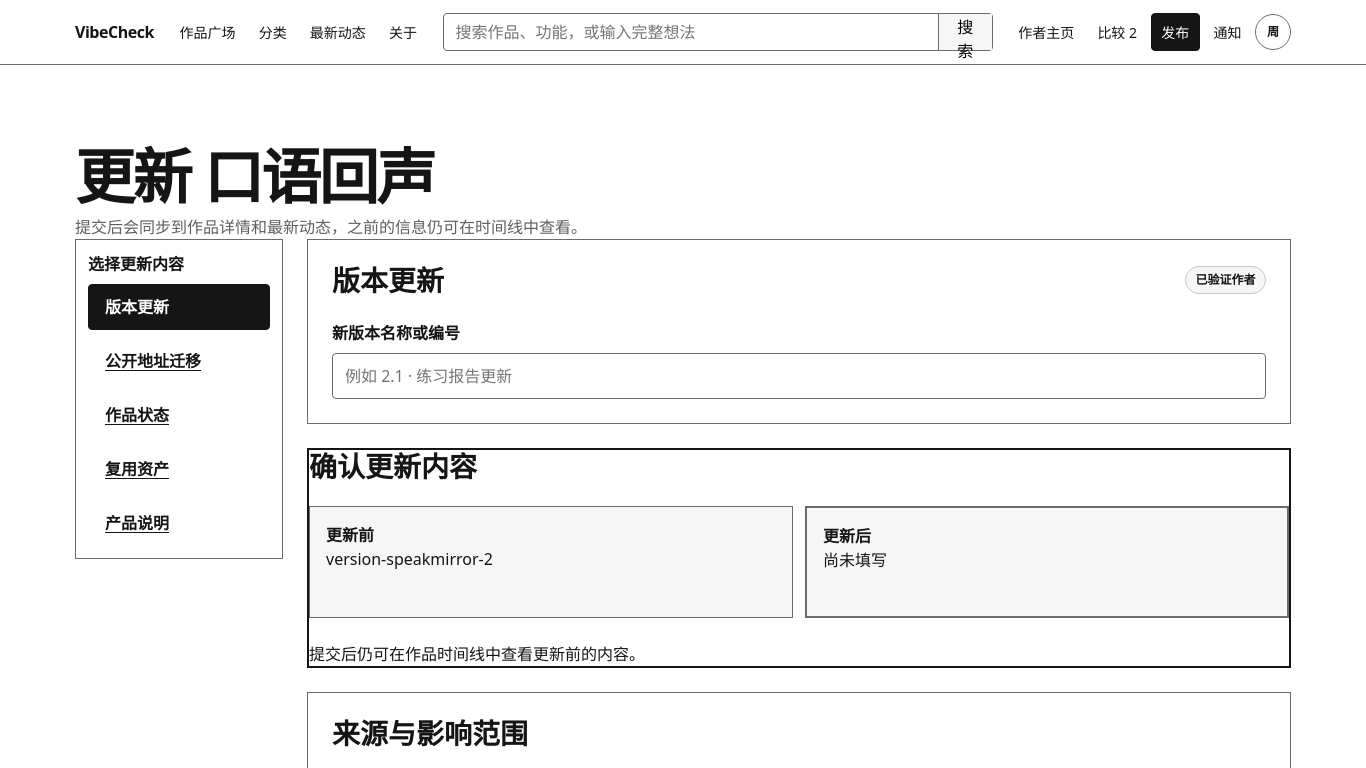
Test: verified author project updates › preserves the draft and redirects when permission expires during submission
Type "3.0" into the field labelled "新版本名称或编号".
click(799, 376); type("3.0")  # box [332,353,1266,399]
(page scrolled)
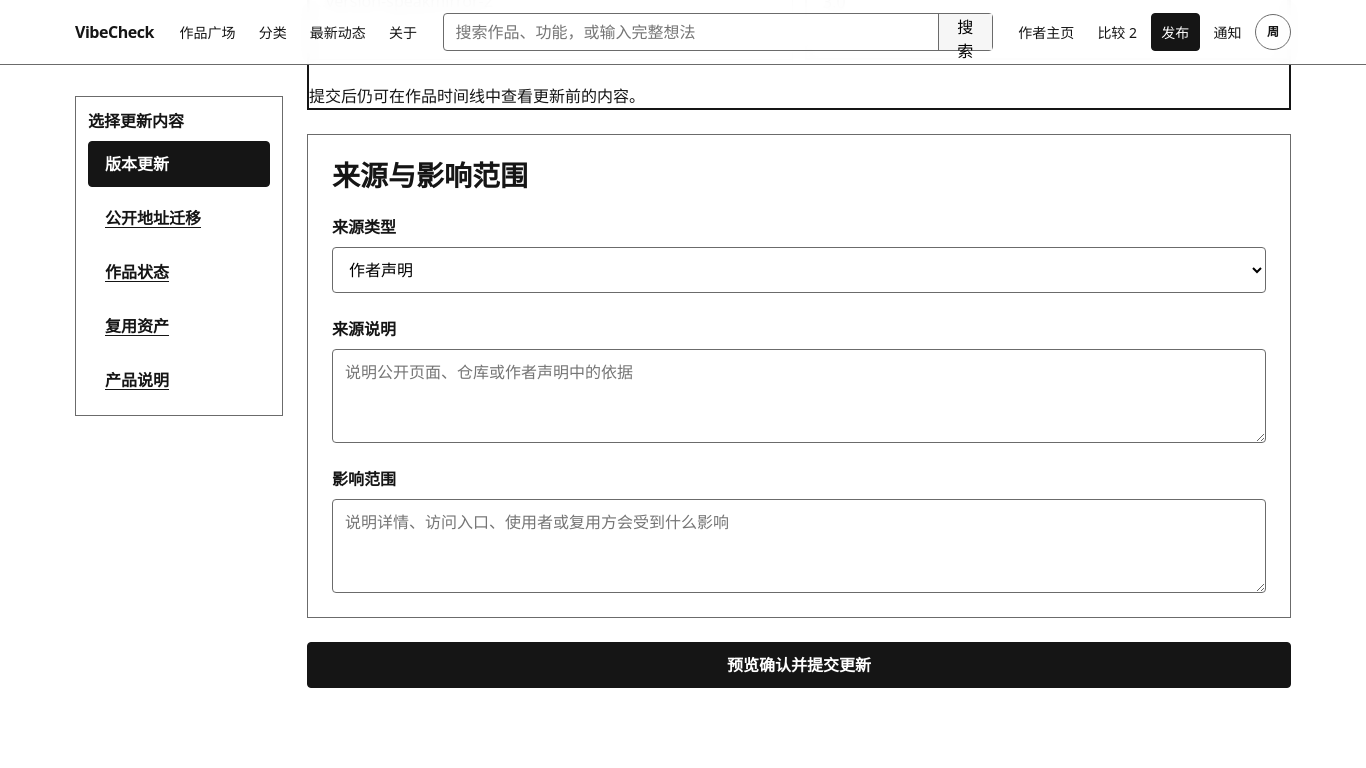
Type "作者公开发布说明与仓库同步更新。" into the text box labelled "来源说明".
click(799, 396); type("作者公开发布说明与仓库同步更新。")  # box [332,349,1266,443]
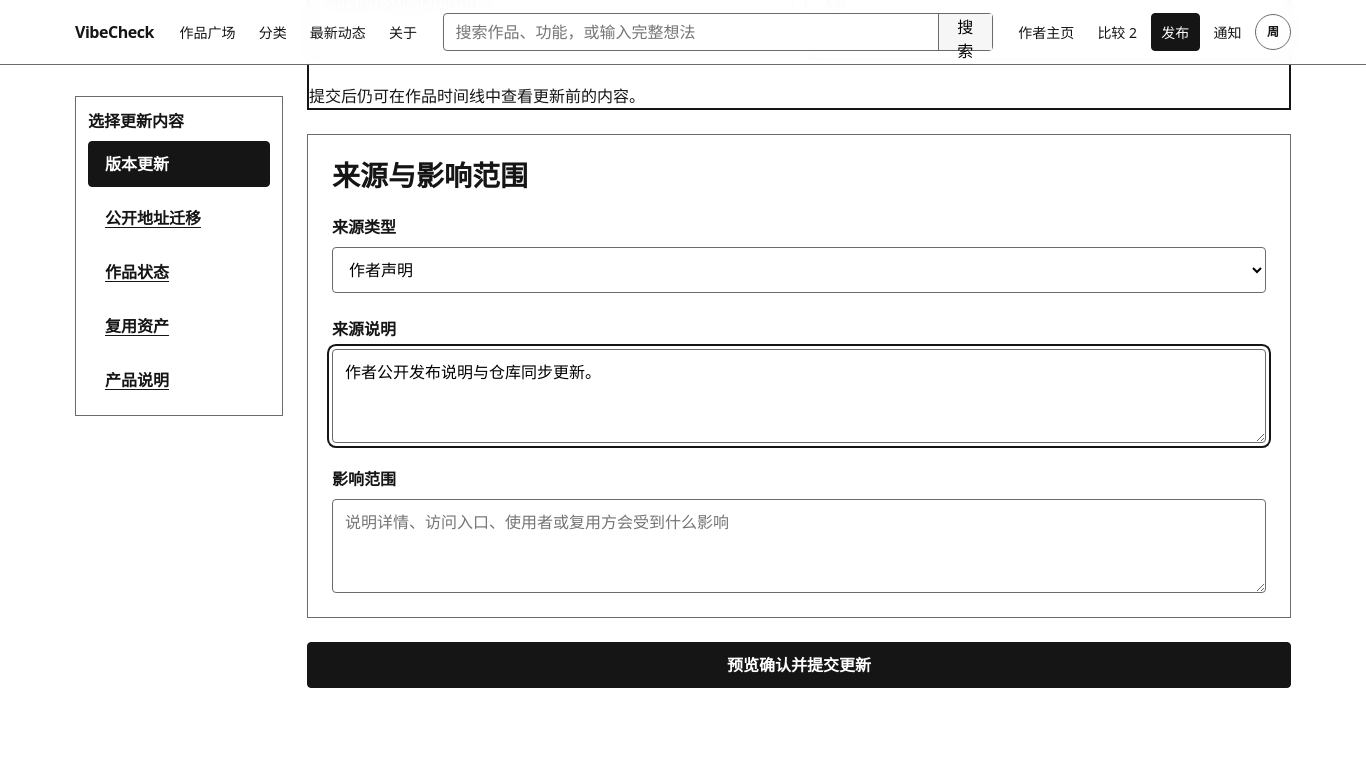
Type "详情访问入口、现有使用者和关注者。" into the text box labelled "影响范围".
click(799, 546); type("详情访问入口、现有使用者和关注者。")  # box [332,499,1266,593]
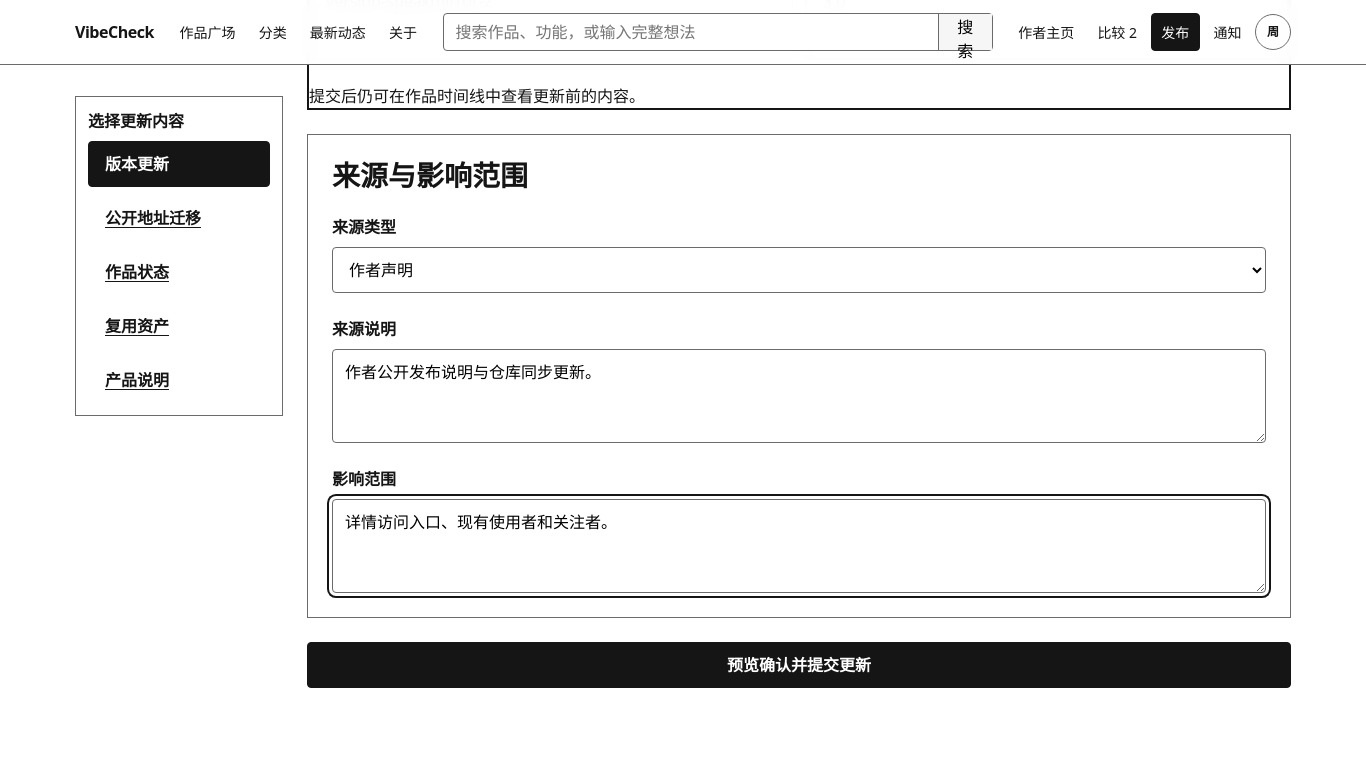
Click the button "预览确认并提交更新".
click(799, 665)  # box [307,642,1291,688]
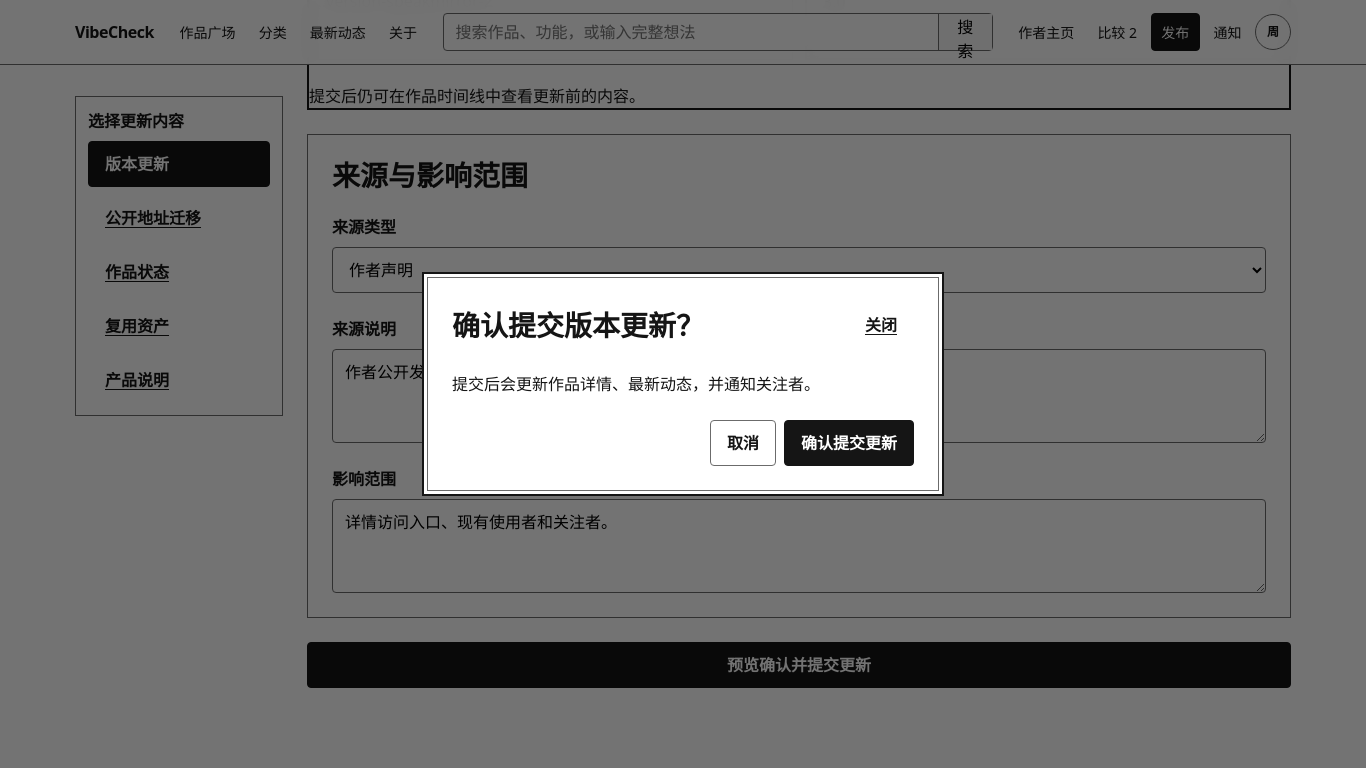
Click the button "确认提交更新".
click(849, 443)  # box [784,420,914,466]
(page scrolled)
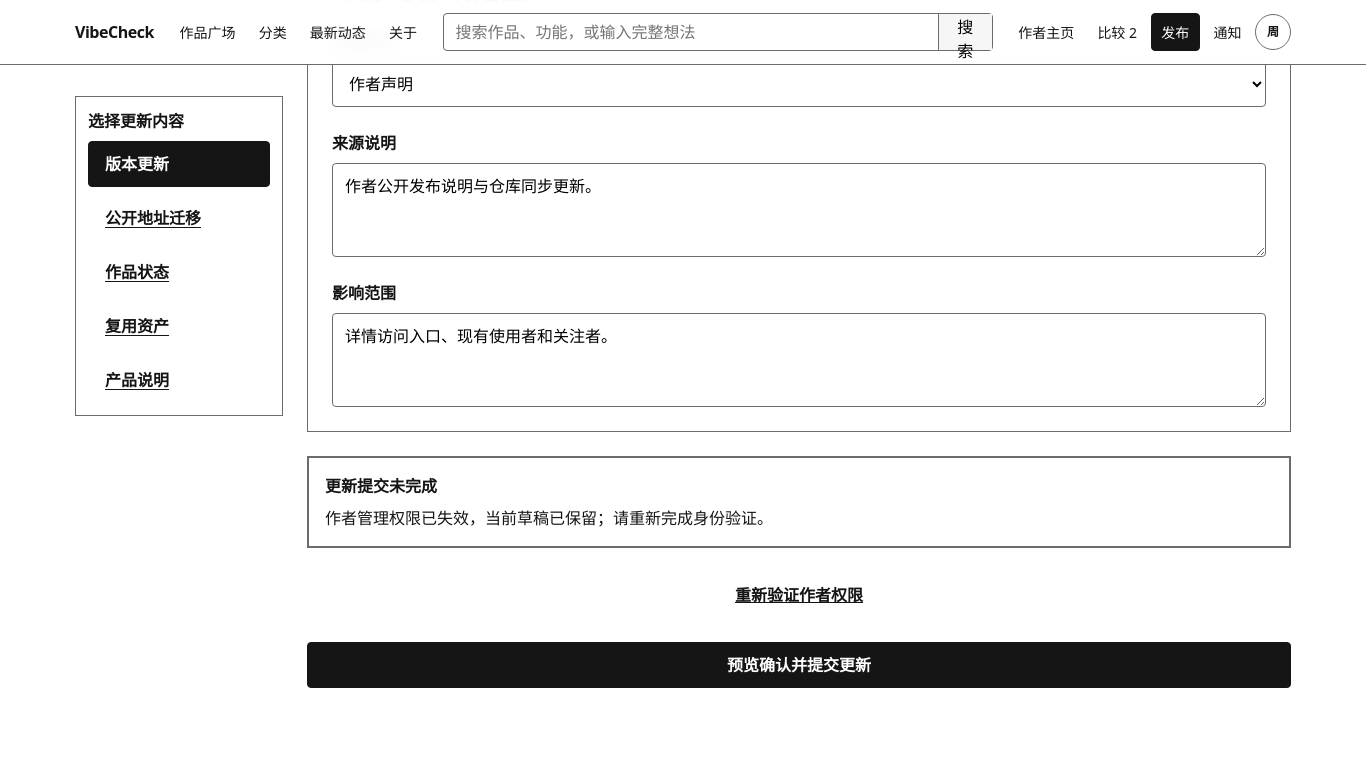
Expected: the text "作者管理权限已失效，当前草稿已保留；请重新完成身份验证。" is shown, [325,506,773,530]
